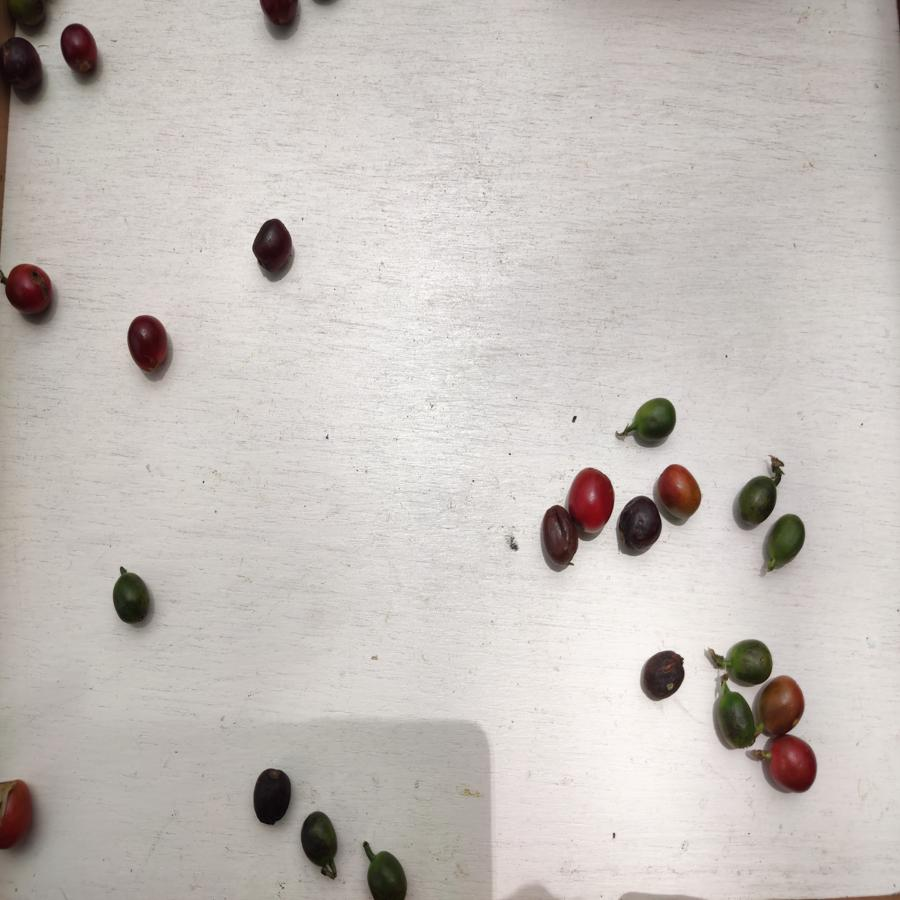Inmaduro: (298, 808, 339, 878), (715, 688, 758, 752), (362, 850, 415, 900), (629, 395, 678, 448), (725, 638, 773, 685), (112, 573, 153, 624), (738, 473, 778, 523), (765, 514, 805, 563)
Maduro: (568, 466, 618, 537), (765, 737, 819, 793), (1, 776, 38, 855), (5, 263, 56, 320), (659, 463, 703, 523)
Pinton: (758, 678, 807, 733)
Sobremaduro: (127, 313, 174, 378), (248, 764, 293, 827), (253, 215, 295, 278), (3, 35, 43, 97), (642, 648, 686, 703), (540, 505, 578, 568), (621, 494, 662, 551), (59, 21, 98, 76)
